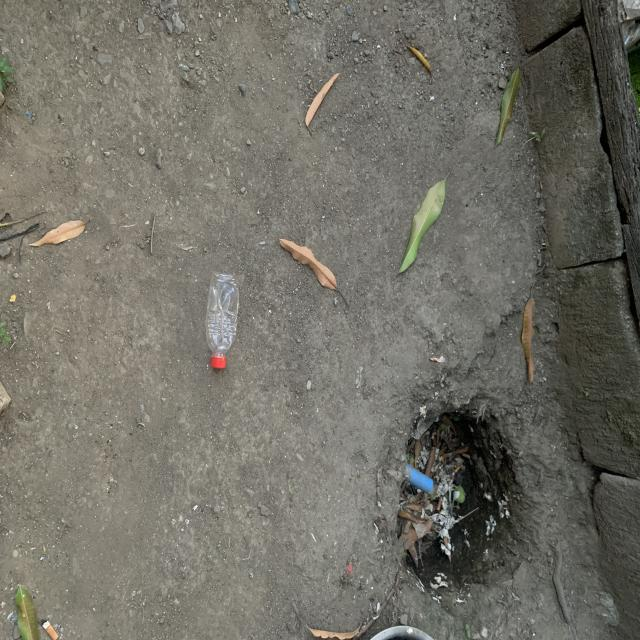Bottle: (206, 273, 239, 369)
